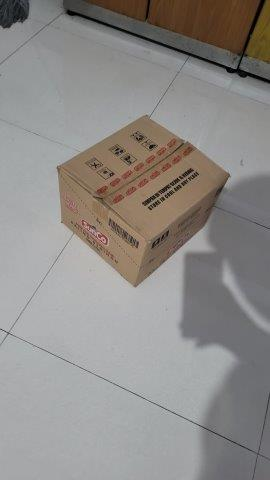kardus: (58, 112, 227, 287)
